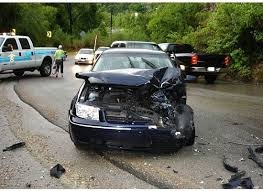Broken-glass: (160, 111, 184, 127)
Smashed: (68, 67, 191, 146)
